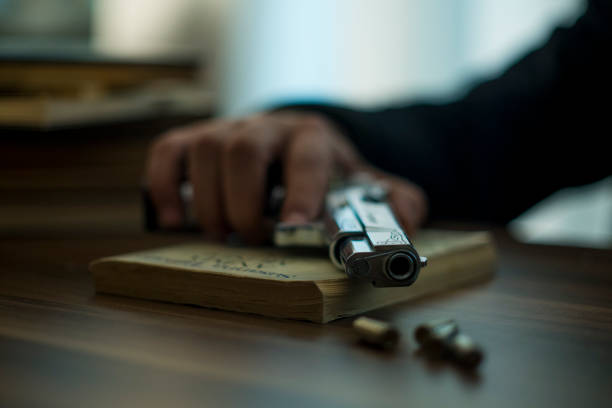gun: (139, 171, 426, 291)
